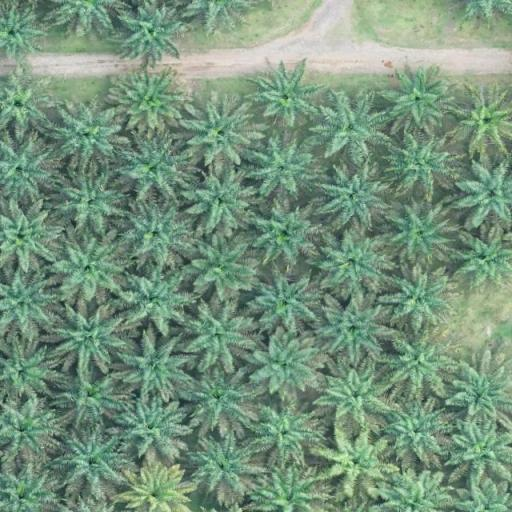Ganoderma: (129, 470, 188, 512), (464, 102, 508, 140)
